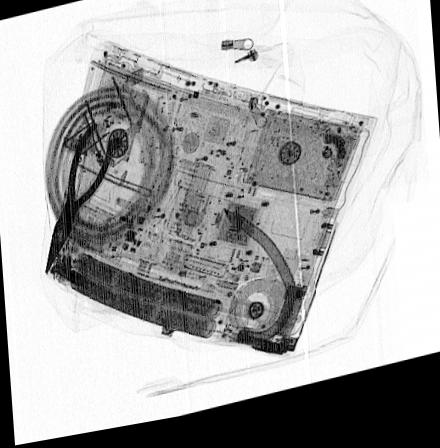Pliers: (46, 122, 115, 277)
